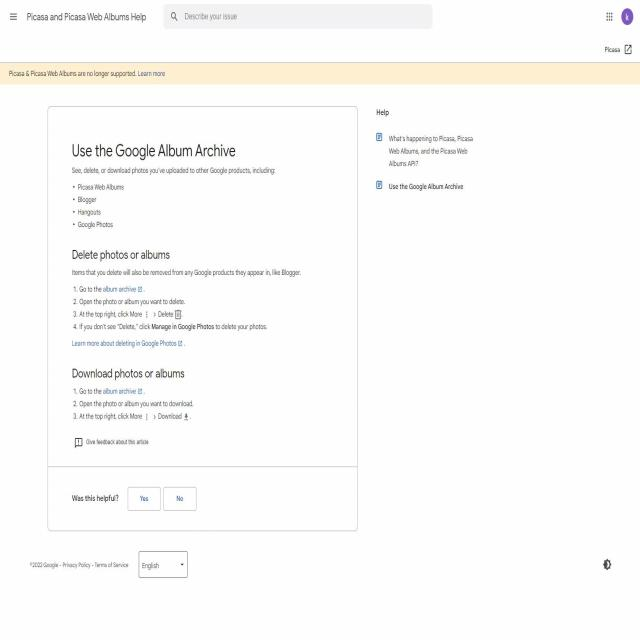button: (163, 487, 197, 512), (128, 487, 161, 511), (4, 5, 22, 25)
input: (163, 3, 433, 31)
select: (138, 551, 188, 579)
